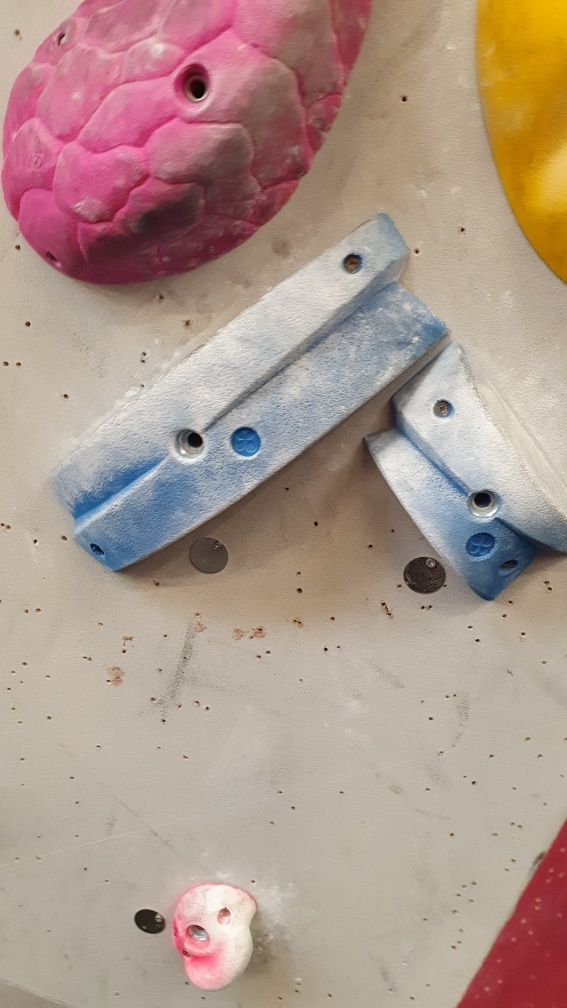Hand Start: (399, 552, 454, 600), (188, 531, 233, 581), (132, 909, 170, 939)
Pinch: (52, 209, 454, 575), (364, 344, 567, 605)
